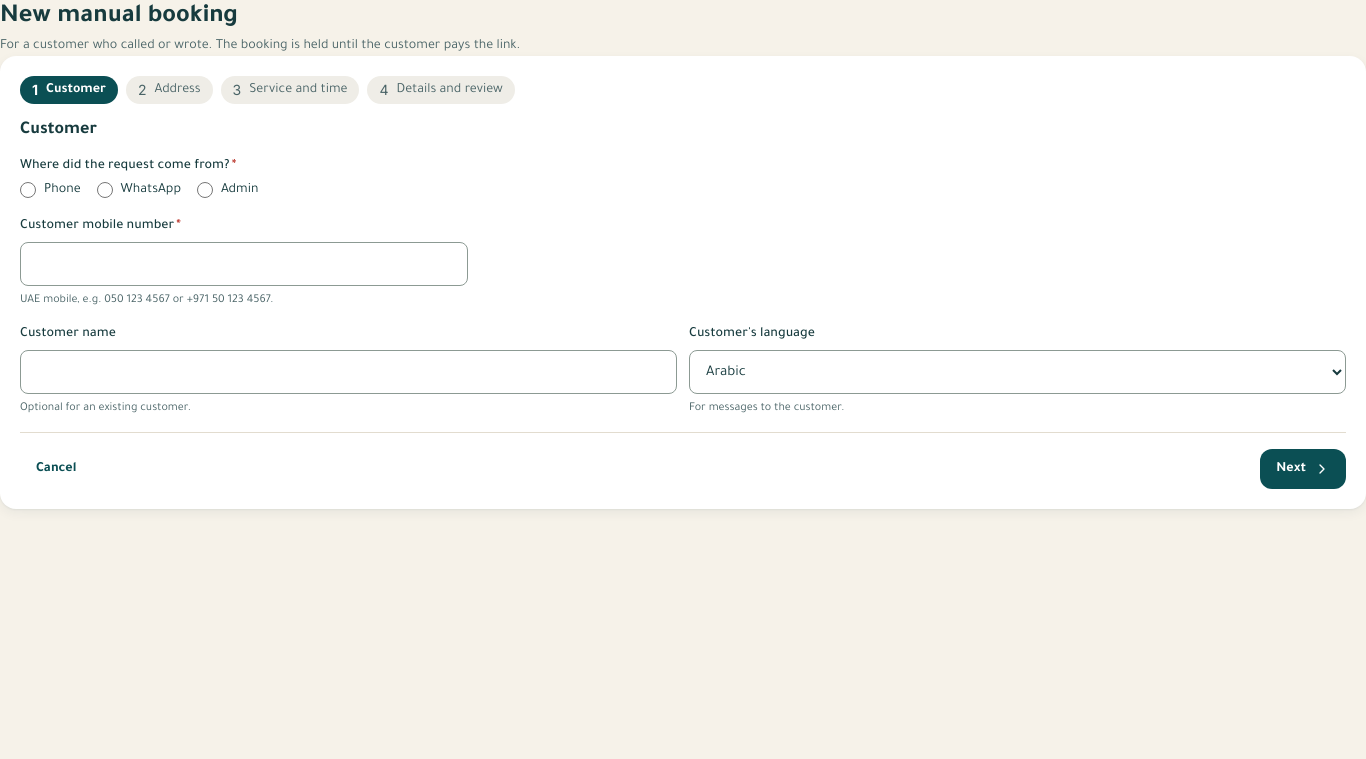
Test: A03 manual booking wizard › forgets a customer lookup once the phone is corrected (never another customer's name or address)
Click the radio button labelled "Phone" at coordinates (28, 190), box [20, 182, 36, 198]
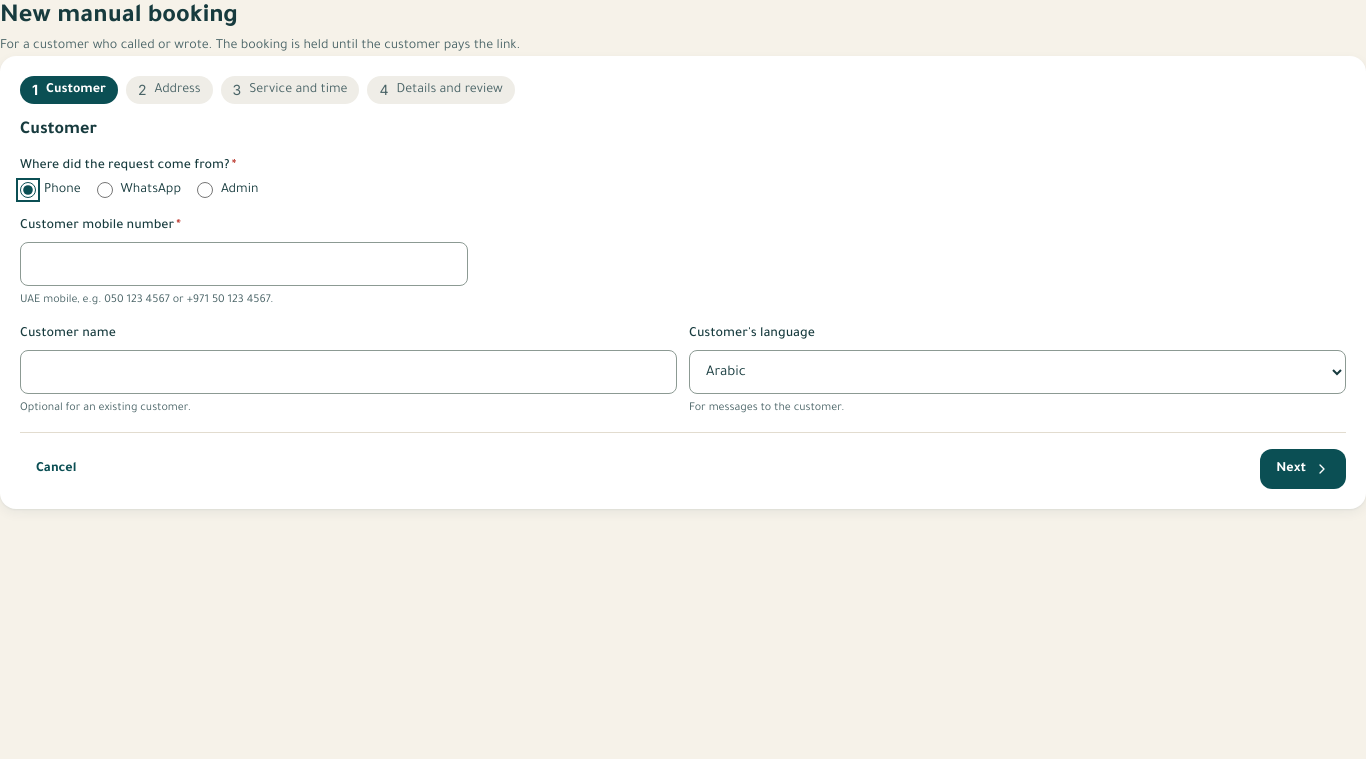
Type "0500000002" into the field labelled "Customer mobile number*" at coordinates (244, 264), box [20, 242, 468, 286]
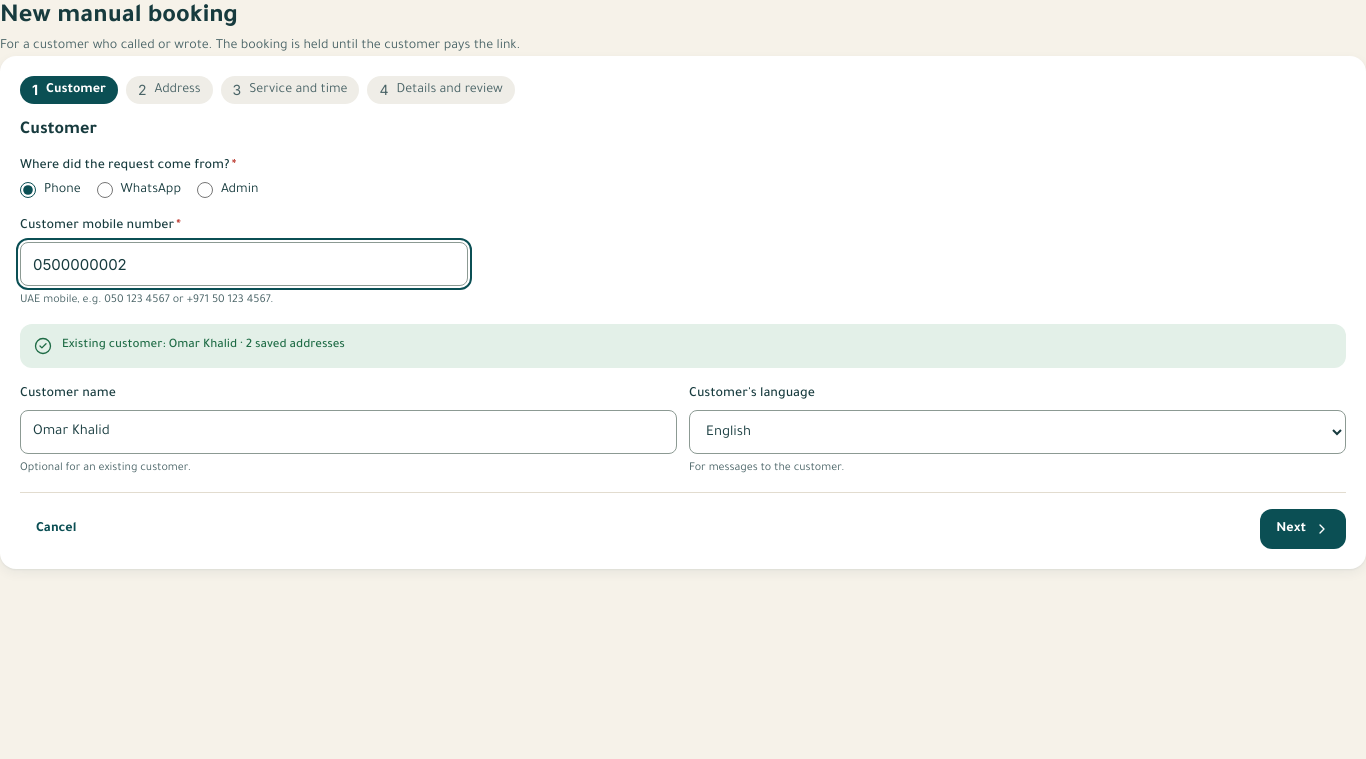
Expected: the text "Existing customer: Omar Khalid · 2 saved addresses" is shown, [62, 339, 345, 352]
Expected: the field labelled "Customer name" holds "Omar Khalid", [20, 410, 677, 454]
Replace the text in the field labelled "Customer mobile number*" with "0500000003" at coordinates (244, 264), box [20, 242, 468, 286]
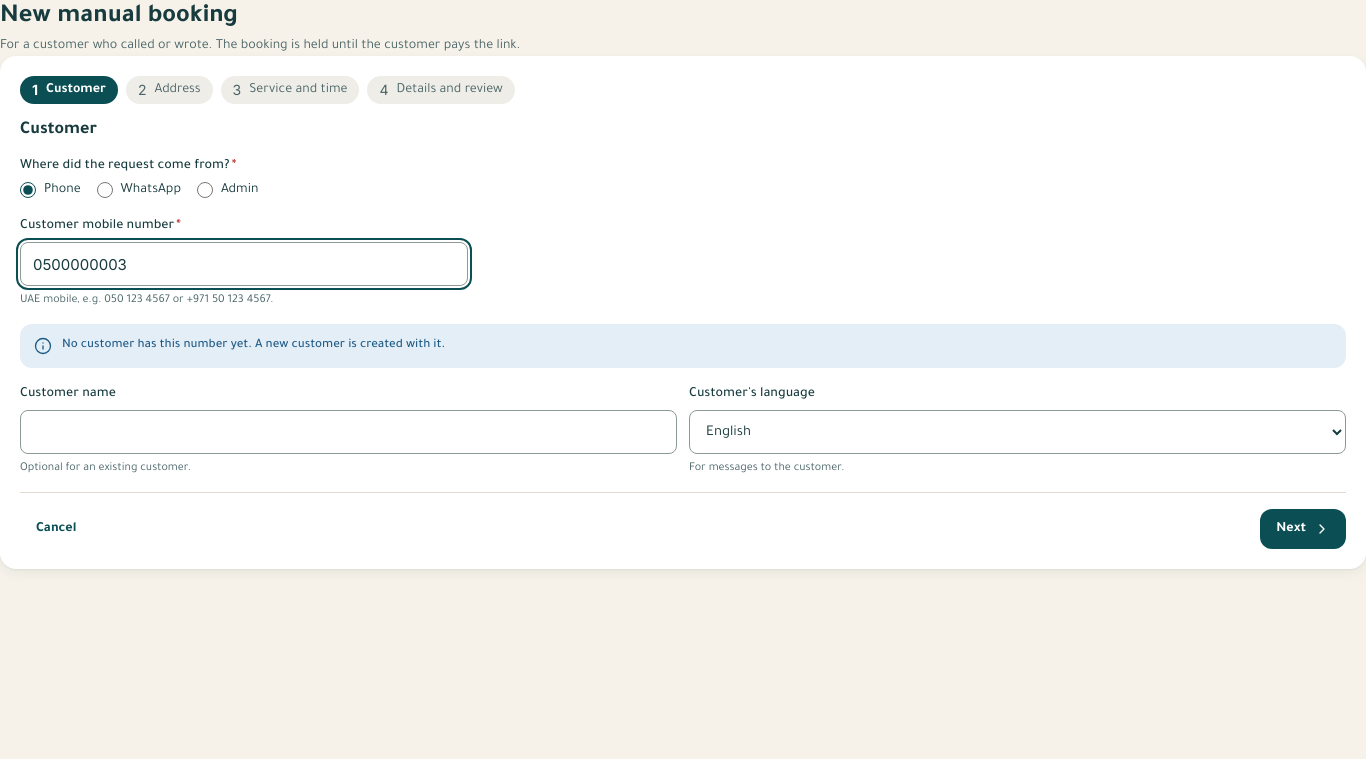
Expected: the field labelled "Customer name" is empty, [20, 410, 677, 454]
Expected: the text "No customer has this number yet. A new customer is created with it." is shown, [62, 339, 445, 352]
Click the button "Next" at coordinates (1303, 529), box [1260, 509, 1346, 549]
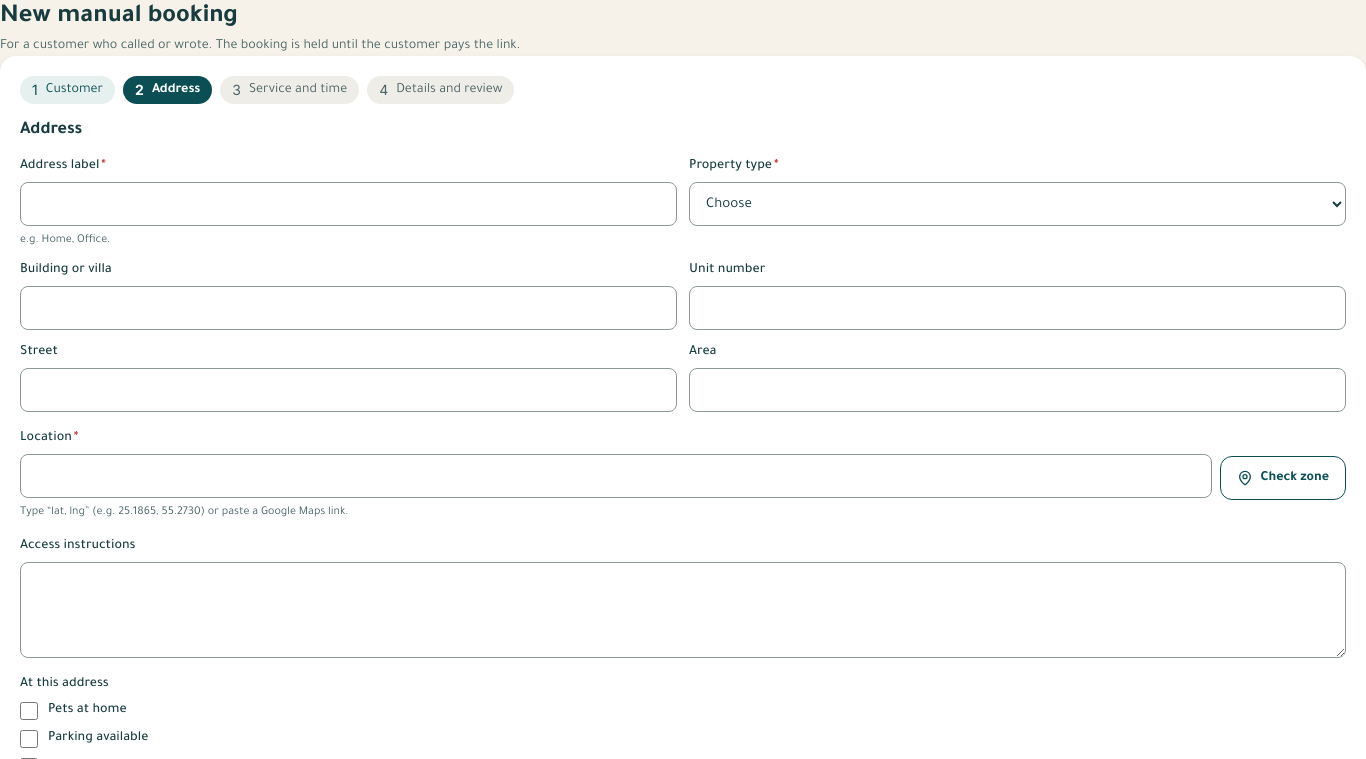
Expected: the field labelled "Address label*" is shown, [20, 182, 677, 226]
